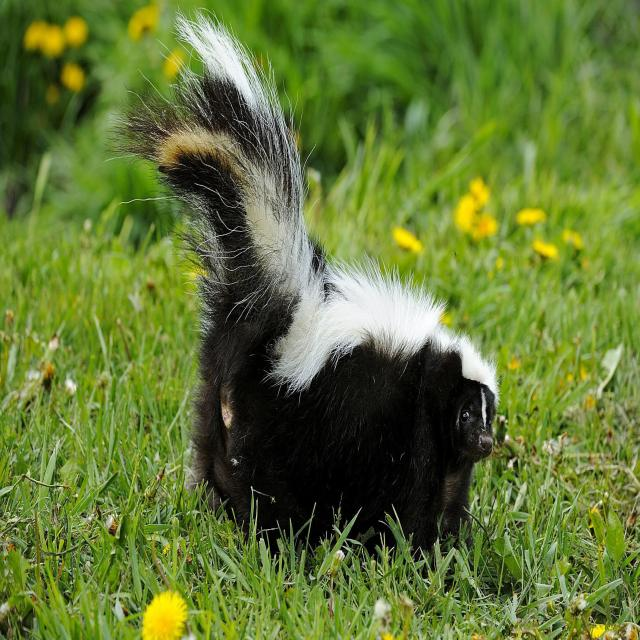Skunk: (132, 0, 513, 567)
